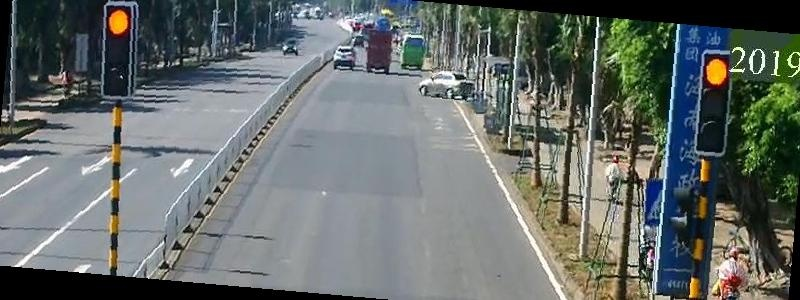red: (95, 5, 141, 38), (695, 55, 732, 87)
